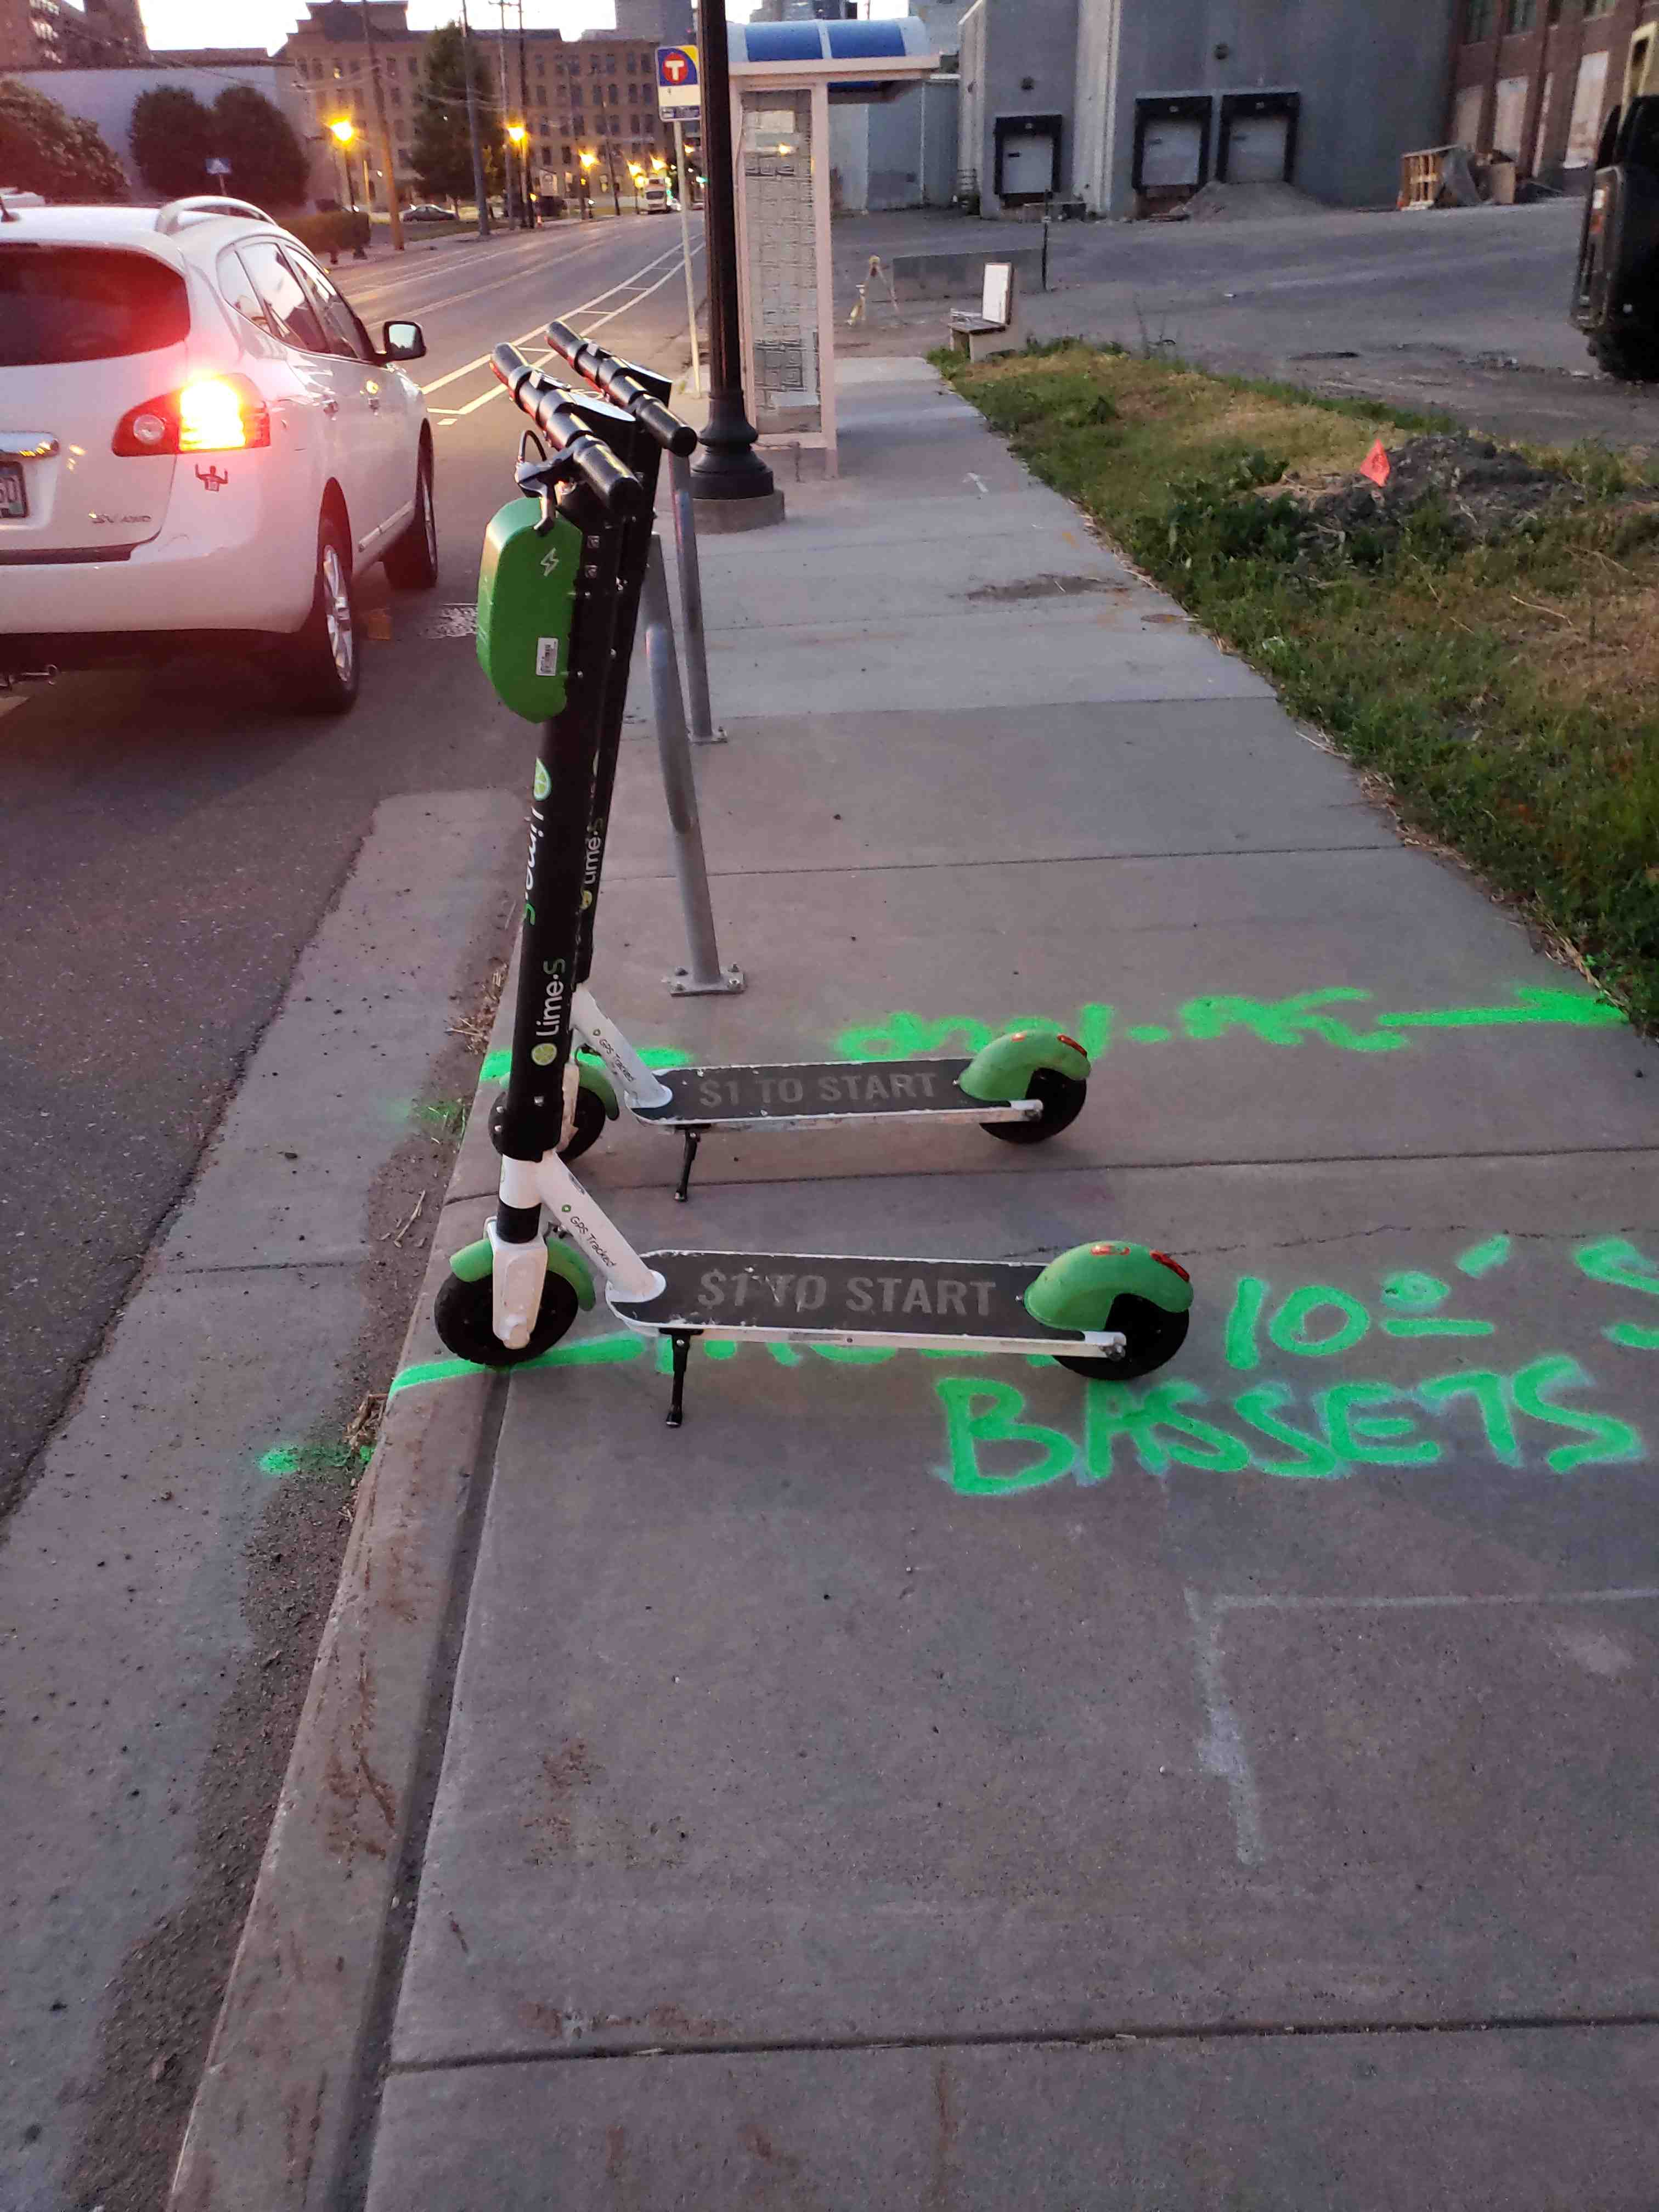too close: (349, 1211, 627, 1428)
